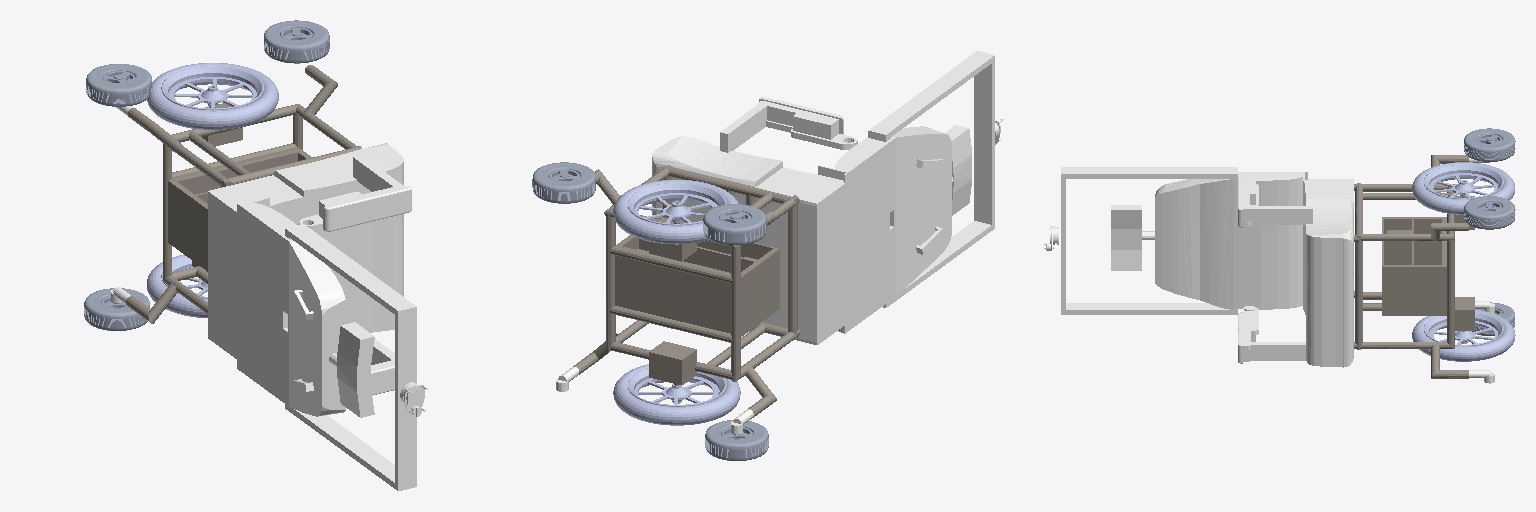
URDF robot description (wheelchair_gp):
<?xml version="1.0" encoding="utf-8"?>
<!-- This URDF was automatically created by SolidWorks to URDF Exporter! Originally created by [author] ([email redacted]) 
     Commit Version: 1.6.0-4-g7f85cfe  Build Version: 1.6.7995.38578
     For more information, please see http://wiki.ros.org/sw_urdf_exporter -->
<robot
  name="wheelchair_gp">
  <link
    name="base_link">
    <inertial>
      <origin
        xyz="-0.0393981982931111 0.039140937433326 -0.0192942548126665"
        rpy="0 0 0" />
      <mass
        value="102.779125185667" />
      <inertia
        ixx="2.42852161898811"
        ixy="-0.168870442034771"
        ixz="0.00607091134061258"
        iyy="3.61718155630895"
        iyz="-0.0626572771723993"
        izz="3.41666653629476" />
    </inertial>
    <visual>
      <origin
        xyz="0 0 0"
        rpy="0 0 0" />
      <geometry>
        <mesh
          filename="package://wheelchair_gp/meshes/base_link.STL" />
      </geometry>
      <material
        name="">
        <color
          rgba="0.647058823529412 0.619607843137255 0.588235294117647 1" />
      </material>
    </visual>
    <collision>
      <origin
        xyz="0 0 0"
        rpy="0 0 0" />
      <geometry>
        <mesh
          filename="package://wheelchair_gp/meshes/base_link.STL" />
      </geometry>
    </collision>
  </link>
  <link
    name="right_wheel_link">
    <inertial>
      <origin
        xyz="-0.0300000000000016 -2.32849869929719E-05 0.000207272987858831"
        rpy="0 0 0" />
      <mass
        value="3.63792559240615" />
      <inertia
        ixx="0.0986432390550648"
        ixy="1.18573910307182E-16"
        ixz="7.22790158174928E-17"
        iyy="0.0501391243760128"
        iyz="-3.24195983610748E-07"
        izz="0.0501419076456854" />
    </inertial>
    <visual>
      <origin
        xyz="0 0 0"
        rpy="0 0 0" />
      <geometry>
        <mesh
          filename="package://wheelchair_gp/meshes/right_wheel_link.STL" />
      </geometry>
      <material
        name="">
        <color
          rgba="0.792156862745098 0.819607843137255 0.933333333333333 1" />
      </material>
    </visual>
    <collision>
      <origin
        xyz="0 0 0"
        rpy="0 0 0" />
      <geometry>
        <mesh
          filename="package://wheelchair_gp/meshes/right_wheel_link.STL" />
      </geometry>
    </collision>
  </link>
  <joint
    name="right_wheel_joint"
    type="continuous">
    <origin
      xyz="-0.0732 0.17701 -0.29197"
      rpy="0.52786 -1.5708 0" />
    <parent
      link="base_link" />
    <child
      link="right_wheel_link" />
    <axis
      xyz="1 0 0" />
    <dynamics
      friction="0.3" />
  </joint>
  <link
    name="left_wheel_link">
    <inertial>
      <origin
        xyz="0.030000000000002 -2.32849869920837E-05 0.000207272987859185"
        rpy="0 0 0" />
      <mass
        value="3.63792559240615" />
      <inertia
        ixx="0.0986432390550647"
        ixy="1.882808452117E-16"
        ixz="-4.84967738954016E-17"
        iyy="0.0501391243760127"
        iyz="-3.24195983611615E-07"
        izz="0.0501419076456854" />
    </inertial>
    <visual>
      <origin
        xyz="0 0 0"
        rpy="0 0 0" />
      <geometry>
        <mesh
          filename="package://wheelchair_gp/meshes/left_wheel_link.STL" />
      </geometry>
      <material
        name="">
        <color
          rgba="0.792156862745098 0.819607843137255 0.933333333333333 1" />
      </material>
    </visual>
    <collision>
      <origin
        xyz="0 0 0"
        rpy="0 0 0" />
      <geometry>
        <mesh
          filename="package://wheelchair_gp/meshes/left_wheel_link.STL" />
      </geometry>
    </collision>
  </link>
  <joint
    name="left_wheel_joint"
    type="continuous">
    <origin
      xyz="-0.0732 0.17701 0.27496"
      rpy="0.2313 -1.5708 0" />
    <parent
      link="base_link" />
    <child
      link="left_wheel_link" />
    <axis
      xyz="1 0 0" />
    <dynamics
      friction="0.3" />
  </joint>
  <link
    name="c_fr_link">
    <inertial>
      <origin
        xyz="3.13828649178838E-08 0.00433096505375735 0.0403769854454989"
        rpy="0 0 0" />
      <mass
        value="0.121211258399187" />
      <inertia
        ixx="0.000183879326955444"
        ixy="2.26483162485928E-11"
        ixz="3.32769997596411E-12"
        iyy="0.000178527913603531"
        iyz="2.16822895135042E-05"
        izz="2.37333780216088E-05" />
    </inertial>
    <visual>
      <origin
        xyz="0 0 0"
        rpy="0 0 0" />
      <geometry>
        <mesh
          filename="package://wheelchair_gp/meshes/c_fr_link.STL" />
      </geometry>
      <material
        name="">
        <color
          rgba="1 1 1 1" />
      </material>
    </visual>
    <collision>
      <origin
        xyz="0 0 0"
        rpy="0 0 0" />
      <geometry>
        <mesh
          filename="package://wheelchair_gp/meshes/c_fr_link.STL" />
      </geometry>
    </collision>
  </link>
  <joint
    name="c_fr_joint"
    type="fixed">
    <origin
      xyz="0.283824627602434 0.277013089293038 -0.321068087348177"
      rpy="-1.5707963267949 0 3.14159265358979" />
    <parent
      link="base_link" />
    <child
      link="c_fr_link" />
    <axis
      xyz="0 0 0" />
  </joint>
  <link
    name="wheel_fr_link">
    <inertial>
      <origin
        xyz="-8.32667268468867E-17 -1.11022302462516E-16 -0.0330891569793349"
        rpy="0 0 0" />
      <mass
        value="1.65462119171389" />
      <inertia
        ixx="0.00469812484295983"
        ixy="4.33680868994202E-19"
        ixz="3.30252475651864E-10"
        iyy="0.00469812484295983"
        iyz="8.17478812773668E-18"
        izz="0.00853457249449091" />
    </inertial>
    <visual>
      <origin
        xyz="0 0 0"
        rpy="0 0 0" />
      <geometry>
        <mesh
          filename="package://wheelchair_gp/meshes/wheel_fr_link.STL" />
      </geometry>
      <material
        name="">
        <color
          rgba="0.666666666666667 0.698039215686274 0.768627450980392 1" />
      </material>
    </visual>
    <collision>
      <origin
        xyz="0 0 0"
        rpy="0 0 0" />
      <geometry>
        <mesh
          filename="package://wheelchair_gp/meshes/wheel_fr_link.STL" />
      </geometry>
    </collision>
  </link>
  <joint
    name="wheel_fr_joint"
    type="continuous">
    <origin
      xyz="0 0.026911 0"
      rpy="1.5708 0.69863 0" />
    <parent
      link="c_fr_link" />
    <child
      link="wheel_fr_link" />
    <axis
      xyz="0 0 1" />
    <dynamics
      friction="0.03" />
  </joint>
  <link
    name="c_fl_link">
    <inertial>
      <origin
        xyz="3.13828648623726E-08 0.0043309650537573 0.0403769854454989"
        rpy="0 0 0" />
      <mass
        value="0.121211258399187" />
      <inertia
        ixx="0.000183879326955444"
        ixy="2.26483161923596E-11"
        ixz="3.32770037806617E-12"
        iyy="0.000178527913603531"
        iyz="2.16822895135046E-05"
        izz="2.37333780216089E-05" />
    </inertial>
    <visual>
      <origin
        xyz="0 0 0"
        rpy="0 0 0" />
      <geometry>
        <mesh
          filename="package://wheelchair_gp/meshes/c_fl_link.STL" />
      </geometry>
      <material
        name="">
        <color
          rgba="1 1 1 1" />
      </material>
    </visual>
    <collision>
      <origin
        xyz="0 0 0"
        rpy="0 0 0" />
      <geometry>
        <mesh
          filename="package://wheelchair_gp/meshes/c_fl_link.STL" />
      </geometry>
    </collision>
  </link>
  <joint
    name="c_fl_joint"
    type="fixed">
    <origin
      xyz="0.27689495464306 0.277013089293036 0.30405178020271"
      rpy="1.5707963267949 0 0" />
    <parent
      link="base_link" />
    <child
      link="c_fl_link" />
    <axis
      xyz="0 0 0" />
  </joint>
  <link
    name="wheel_fl_link">
    <inertial>
      <origin
        xyz="3.7470027081099E-16 1.27675647831893E-15 -0.0330891569793351"
        rpy="0 0 0" />
      <mass
        value="1.65462119171388" />
      <inertia
        ixx="0.00469812484295979"
        ixy="1.51788304147971E-18"
        ixz="3.30252468249497E-10"
        iyy="0.00469812484295979"
        iyz="8.77676287766096E-18"
        izz="0.00853457249449084" />
    </inertial>
    <visual>
      <origin
        xyz="0 0 0"
        rpy="0 0 0" />
      <geometry>
        <mesh
          filename="package://wheelchair_gp/meshes/wheel_fl_link.STL" />
      </geometry>
      <material
        name="">
        <color
          rgba="0.666666666666667 0.698039215686274 0.768627450980392 1" />
      </material>
    </visual>
    <collision>
      <origin
        xyz="0 0 0"
        rpy="0 0 0" />
      <geometry>
        <mesh
          filename="package://wheelchair_gp/meshes/wheel_fl_link.STL" />
      </geometry>
    </collision>
  </link>
  <joint
    name="wheel_fl_joint"
    type="continuous">
    <origin
      xyz="0 0.026911 0"
      rpy="1.5708 -0.46245 0" />
    <parent
      link="c_fl_link" />
    <child
      link="wheel_fl_link" />
    <axis
      xyz="0 0 1" />
    <dynamics
      friction="0.03" />
  </joint>
  <link
    name="c_rr_link">
    <inertial>
      <origin
        xyz="3.13828649178838E-08 0.00433096505375735 0.0403769854454989"
        rpy="0 0 0" />
      <mass
        value="0.121211258399187" />
      <inertia
        ixx="0.000183879326955444"
        ixy="2.26483161972894E-11"
        ixz="3.32770029958626E-12"
        iyy="0.000178527913603531"
        iyz="2.16822895135042E-05"
        izz="2.37333780216088E-05" />
    </inertial>
    <visual>
      <origin
        xyz="0 0 0"
        rpy="0 0 0" />
      <geometry>
        <mesh
          filename="package://wheelchair_gp/meshes/c_rr_link.STL" />
      </geometry>
      <material
        name="">
        <color
          rgba="1 1 1 1" />
      </material>
    </visual>
    <collision>
      <origin
        xyz="0 0 0"
        rpy="0 0 0" />
      <geometry>
        <mesh
          filename="package://wheelchair_gp/meshes/c_rr_link.STL" />
      </geometry>
    </collision>
  </link>
  <joint
    name="c_rr_joint"
    type="fixed">
    <origin
      xyz="-0.34822491290783 0.277013089293035 -0.321068087348177"
      rpy="-1.5707963267949 0 3.14159265358979" />
    <parent
      link="base_link" />
    <child
      link="c_rr_link" />
    <axis
      xyz="0 0 0" />
  </joint>
  <link
    name="wheel_rr_link">
    <inertial>
      <origin
        xyz="-2.77555756156289E-17 -1.11022302462516E-16 -0.0330891569793349"
        rpy="0 0 0" />
      <mass
        value="1.65462119171389" />
      <inertia
        ixx="0.00469812484295982"
        ixy="-4.33680868994202E-19"
        ixz="3.302524894883E-10"
        iyy="0.00469812484295982"
        iyz="1.23951450689225E-17"
        izz="0.00853457249449088" />
    </inertial>
    <visual>
      <origin
        xyz="0 0 0"
        rpy="0 0 0" />
      <geometry>
        <mesh
          filename="package://wheelchair_gp/meshes/wheel_rr_link.STL" />
      </geometry>
      <material
        name="">
        <color
          rgba="0.666666666666667 0.698039215686274 0.768627450980392 1" />
      </material>
    </visual>
    <collision>
      <origin
        xyz="0 0 0"
        rpy="0 0 0" />
      <geometry>
        <mesh
          filename="package://wheelchair_gp/meshes/wheel_rr_link.STL" />
      </geometry>
    </collision>
  </link>
  <joint
    name="wheel_rr_joint"
    type="continuous">
    <origin
      xyz="0 0.026911 0"
      rpy="-1.5708 0.53111 3.1416" />
    <parent
      link="c_rr_link" />
    <child
      link="wheel_rr_link" />
    <axis
      xyz="0 0 1" />
    <dynamics
      friction="0.03" />
  </joint>
  <link
    name="chair_link">
    <inertial>
      <origin
        xyz="-0.186634259898291 0.695315360247557 -0.000154601290756128"
        rpy="0 0 0" />
      <mass
        value="114.06700966343" />
      <inertia
        ixx="9.01362340563565"
        ixy="2.75872047758239"
        ixz="-0.0220781525155727"
        iyy="6.74522524259257"
        iyz="-0.0794043830621098"
        izz="10.1495034165686" />
    </inertial>
    <visual>
      <origin
        xyz="0 0 0"
        rpy="0 0 0" />
      <geometry>
        <mesh
          filename="package://wheelchair_gp/meshes/chair_link.STL" />
      </geometry>
      <material
        name="">
        <color
          rgba="1 1 1 0.3" />
      </material>
    </visual>
    <collision>
      <origin
        xyz="0 0 0"
        rpy="0 0 0" />
      <geometry>
        <mesh
          filename="package://wheelchair_gp/meshes/chair_link.STL" />
      </geometry>
    </collision>
  </link>
  <joint
    name="chair_joint"
    type="fixed">
    <origin
      xyz="0.0850649844123319 0.223013089293032 -0.0219729900524205"
      rpy="-3.14159265358979 0 0" />
    <parent
      link="base_link" />
    <child
      link="chair_link" />
    <axis
      xyz="0 0 0" />
  </joint>
  <link
    name="laser_link">
    <inertial>
      <origin
        xyz="-0.0164439641378342 0.00393830970343445 -0.000495122459176101"
        rpy="0 0 0" />
      <mass
        value="0.171593009361433" />
      <inertia
        ixx="5.55321136136403E-05"
        ixy="4.34621326843885E-06"
        ixz="1.02435205100894E-06"
        iyy="0.000129552246180809"
        iyz="2.45142607227698E-07"
        izz="8.81695539048464E-05" />
    </inertial>
    <visual>
      <origin
        xyz="0 0 0"
        rpy="0 0 0" />
      <geometry>
        <mesh
          filename="package://wheelchair_gp/meshes/laser_link.STL" />
      </geometry>
      <material
        name="">
        <color
          rgba="1 1 1 0.3" />
      </material>
    </visual>
    <collision>
      <origin
        xyz="0 0 0"
        rpy="0 0 0" />
      <geometry>
        <mesh
          filename="package://wheelchair_gp/meshes/laser_link.STL" />
      </geometry>
    </collision>
  </link>
  <joint
    name="laser_joint"
    type="fixed">
    <origin
      xyz="-0.374765127065032 1.63499193284082 0"
      rpy="3.14159265358979 -1.5707963267949 0" />
    <parent
      link="chair_link" />
    <child
      link="laser_link" />
    <axis
      xyz="0 0 0" />
  </joint>
  <link
    name="c_rl_link">
    <inertial>
      <origin
        xyz="3.13828649178838E-08 0.00433096505375724 0.0403769854454989"
        rpy="0 0 0" />
      <mass
        value="0.121211258399187" />
      <inertia
        ixx="0.000183879326955444"
        ixy="2.26483161956336E-11"
        ixz="3.32770035336315E-12"
        iyy="0.000178527913603531"
        iyz="2.16822895135047E-05"
        izz="2.3733378021609E-05" />
    </inertial>
    <visual>
      <origin
        xyz="0 0 0"
        rpy="0 0 0" />
      <geometry>
        <mesh
          filename="package://wheelchair_gp/meshes/c_rl_link.STL" />
      </geometry>
      <material
        name="">
        <color
          rgba="1 1 1 1" />
      </material>
    </visual>
    <collision>
      <origin
        xyz="0 0 0"
        rpy="0 0 0" />
      <geometry>
        <mesh
          filename="package://wheelchair_gp/meshes/c_rl_link.STL" />
      </geometry>
    </collision>
  </link>
  <joint
    name="c_rl_joint"
    type="fixed">
    <origin
      xyz="-0.341295239948457 0.277013089293035 0.30405178020271"
      rpy="1.5707963267949 0 0" />
    <parent
      link="base_link" />
    <child
      link="c_rl_link" />
    <axis
      xyz="0 0 0" />
  </joint>
  <link
    name="wheel_rl_link">
    <inertial>
      <origin
        xyz="-1.66533453693773E-15 1.13797860024079E-15 0.0330891569793352"
        rpy="0 0 0" />
      <mass
        value="1.65462119171389" />
      <inertia
        ixx="0.00469812484295981"
        ixy="-4.33680868994202E-19"
        ixz="3.30252491019902E-10"
        iyy="0.00469812484295981"
        iyz="6.10944470975018E-18"
        izz="0.00853457249449091" />
    </inertial>
    <visual>
      <origin
        xyz="0 0 0"
        rpy="0 0 0" />
      <geometry>
        <mesh
          filename="package://wheelchair_gp/meshes/wheel_rl_link.STL" />
      </geometry>
      <material
        name="">
        <color
          rgba="0.666666666666667 0.698039215686274 0.768627450980392 1" />
      </material>
    </visual>
    <collision>
      <origin
        xyz="0 0 0"
        rpy="0 0 0" />
      <geometry>
        <mesh
          filename="package://wheelchair_gp/meshes/wheel_rl_link.STL" />
      </geometry>
    </collision>
  </link>
  <joint
    name="wheel_rl_joint"
    type="continuous">
    <origin
      xyz="0 0.026911 0"
      rpy="1.5708 1.1424 3.1416" />
    <parent
      link="c_rl_link" />
    <child
      link="wheel_rl_link" />
    <axis
      xyz="0 0 1" />
    <dynamics
      friction="0.03" />
  </joint>
  <gazebo>
  <plugin name="differential_drive_controller" filename="libgazebo_ros_diff_drive.so">
    <alwaysOn>true</alwaysOn>
    <legacyMode>false</legacyMode>
    <updateRate>40</updateRate>
    <leftJoint>left_wheel_joint</leftJoint>
    <rightJoint>right_wheel_joint</rightJoint>
    <wheelSeparation>0.6</wheelSeparation>
    <wheelDiameter>0.3</wheelDiameter>
    <torque>80</torque>
    <commandTopic>cmd_vel</commandTopic>
    <odometryTopic>odom</odometryTopic>
    <odometryFrame>odom</odometryFrame>
    <robotBaseFrame>base_link</robotBaseFrame>
  </plugin>
</gazebo>
</robot>

--- Render facts (derived) ---
3 views of the same robot in one strip: view 1: azimuth 30°, elevation 25°; view 2: azimuth 150°, elevation 25°; view 3: azimuth 270°, elevation 25° (orthographic).
Robot: wheelchair_gp — 13 links, 12 joints (6 continuous, 6 fixed); root link base_link; default pose: every joint at zero.
Visible links, largest first — view 1: chair_link, base_link, left_wheel_link, wheel_rl_link, wheel_fl_link, wheel_rr_link, right_wheel_link, laser_link; view 2: chair_link, base_link, left_wheel_link, right_wheel_link, wheel_fl_link, wheel_rl_link, wheel_rr_link; view 3: chair_link, base_link, left_wheel_link, right_wheel_link, wheel_fl_link, wheel_rl_link.
Link boxes in pixels (x1,y1,x2,y2): chair_link: (208,143,416,490); base_link: (125,65,361,323); left_wheel_link: (147,63,278,129); wheel_rl_link: (86,64,151,106); wheel_fl_link: (264,20,329,63); wheel_rr_link: (84,288,149,330); right_wheel_link: (147,254,207,317); laser_link: (400,382,427,416); chair_link: (652,51,994,344); base_link: (573,165,800,417); left_wheel_link: (613,180,738,244); right_wheel_link: (613,364,740,425); wheel_fl_link: (532,162,595,203); wheel_rl_link: (703,204,766,244); wheel_rr_link: (705,420,768,460); chair_link: (1061,167,1353,367); base_link: (1354,155,1474,378); left_wheel_link: (1412,162,1514,214); right_wheel_link: (1412,310,1515,361); wheel_fl_link: (1464,196,1515,229); wheel_rl_link: (1464,128,1515,161).
Bounding box of the posed robot: 0.8251 × 1.82 × 0.8051 m (x, y, z).
Meshes: 13 distinct files referenced, 11 mesh visuals loaded (11 binary STL); not drawn: 2 (reference not matched to a file when rendering).